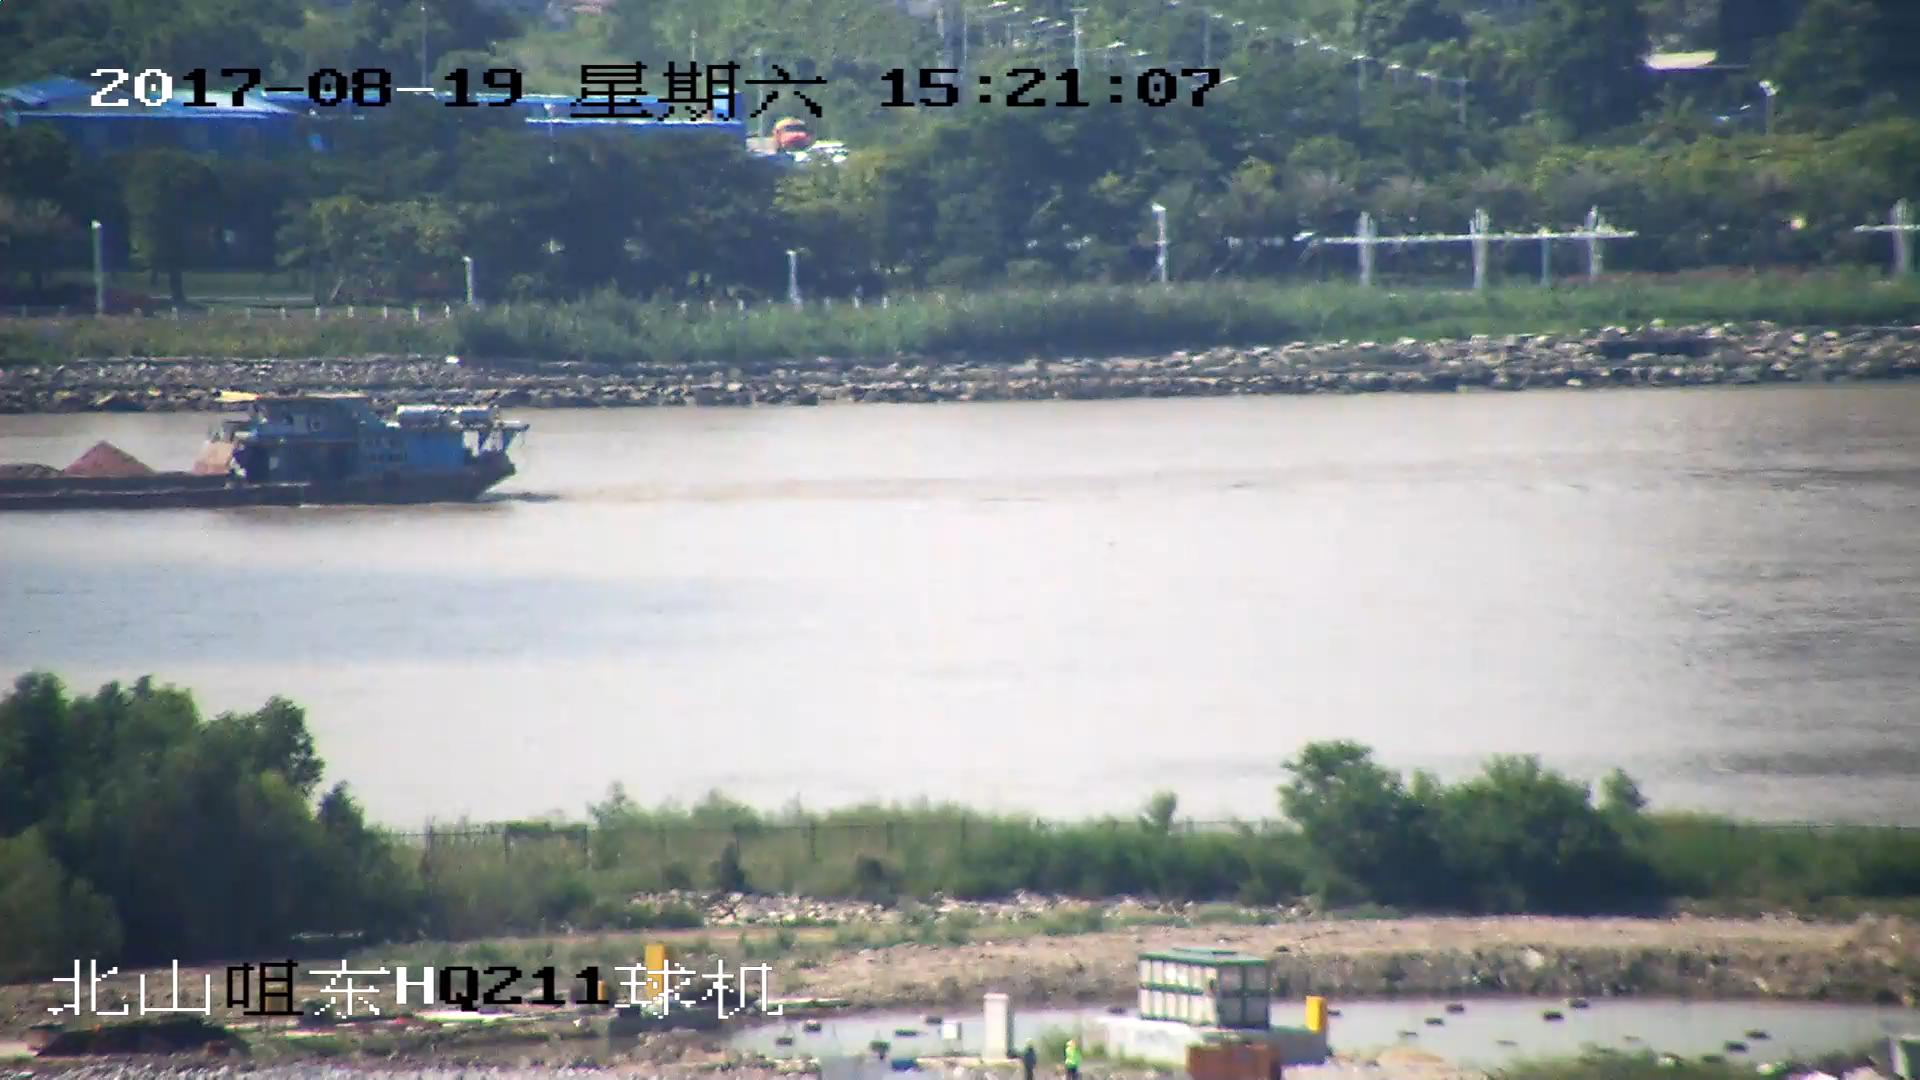ore carrier: (1, 384, 518, 512)
